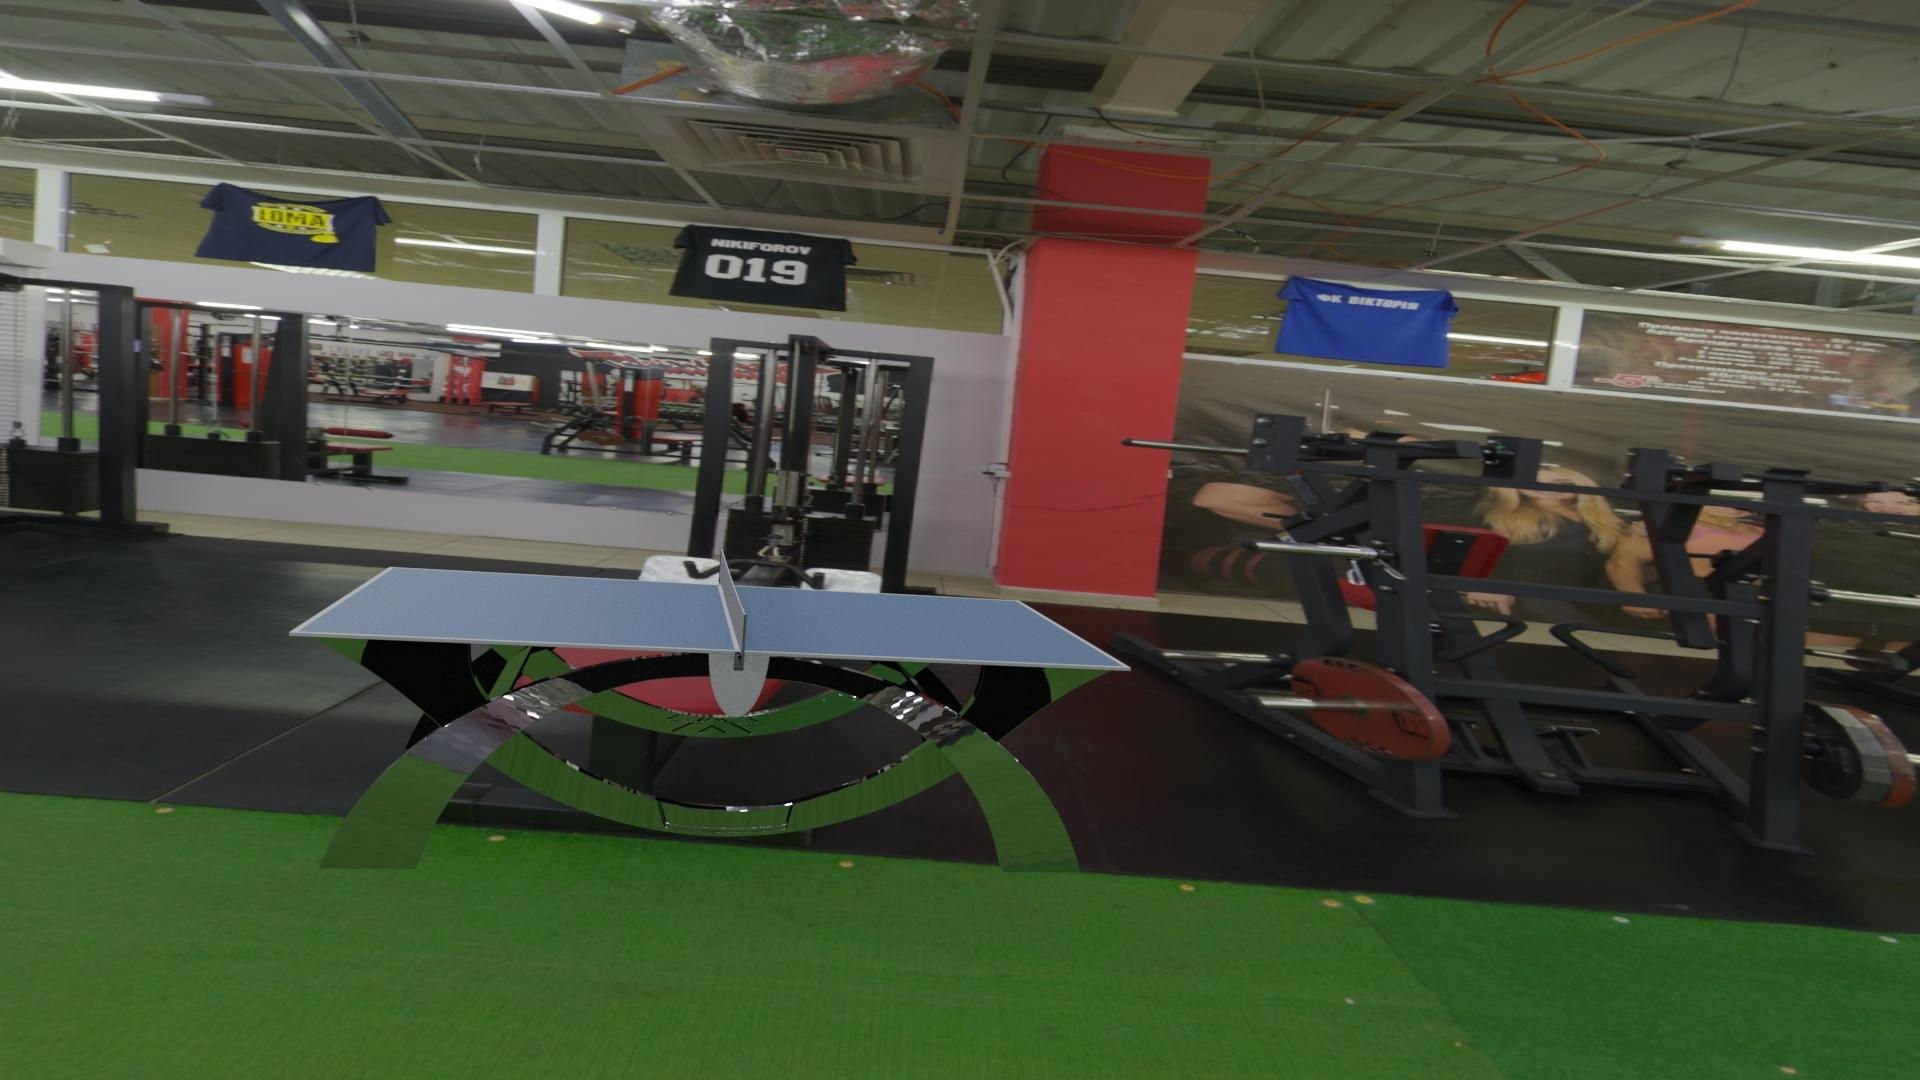table: (298, 568, 1124, 667)
